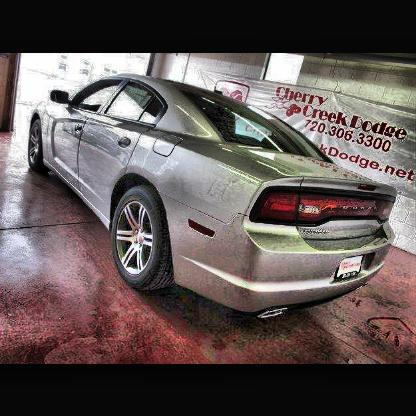Dodge Charger Sedan 2012: (29, 72, 401, 322)
